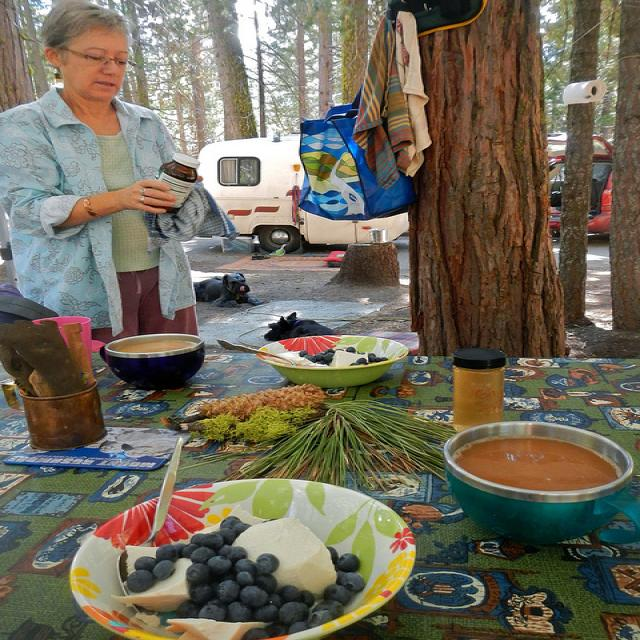Vehicle: (201, 141, 419, 253), (548, 132, 614, 238)
